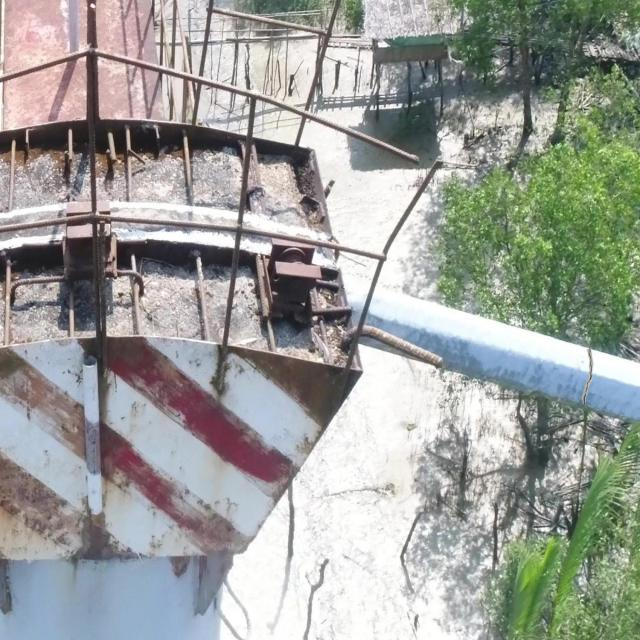crack: (580, 348, 595, 405)
